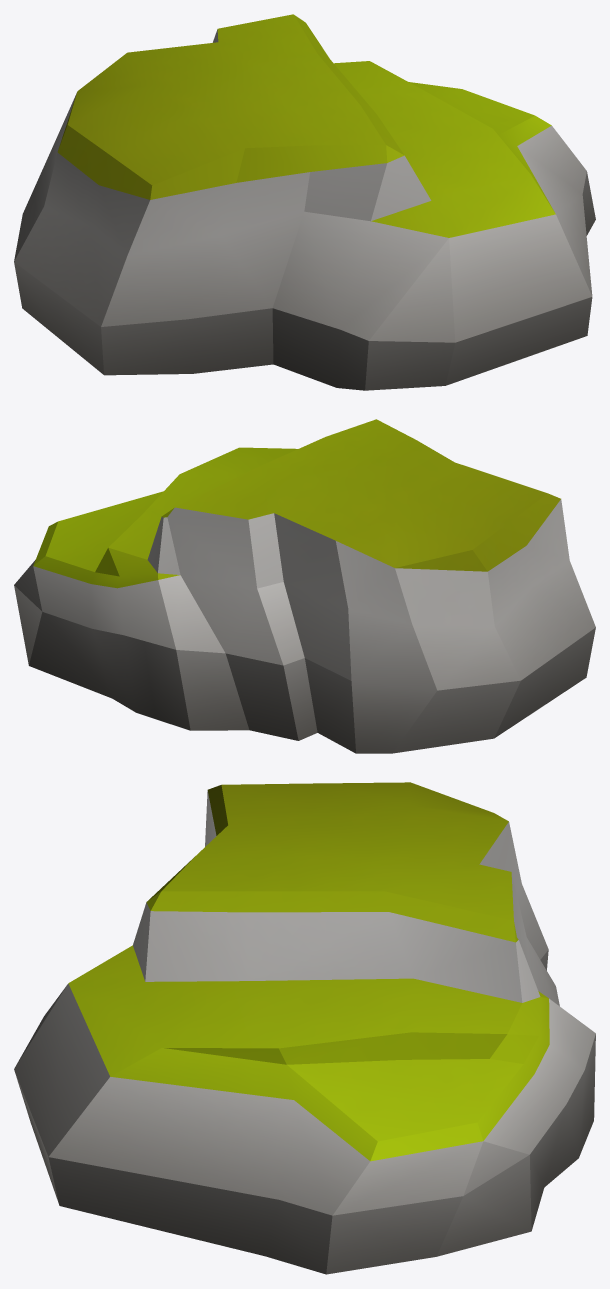
File: Rock_Platform_Medium_GrassVariant.fbx
3 views of the same model, one above another, from view 1: azimuth 30°, elevation 25°; view 2: azimuth 150°, elevation 25°; view 3: azimuth 270°, elevation 25° (orthographic). The views are drawn at different scales.
Visible parts, largest first — view 1: Rock_Platform_Medium_GrassVariant; view 2: Rock_Platform_Medium_GrassVariant; view 3: Rock_Platform_Medium_GrassVariant.
Boxes of the visible parts, x1,y1,x2,y2 form: Rock_Platform_Medium_GrassVariant: (14, 14, 595, 390); Rock_Platform_Medium_GrassVariant: (14, 419, 595, 753); Rock_Platform_Medium_GrassVariant: (14, 782, 595, 1274).
Bounding box in the file's own units: 1495 × 619 × 1203.
